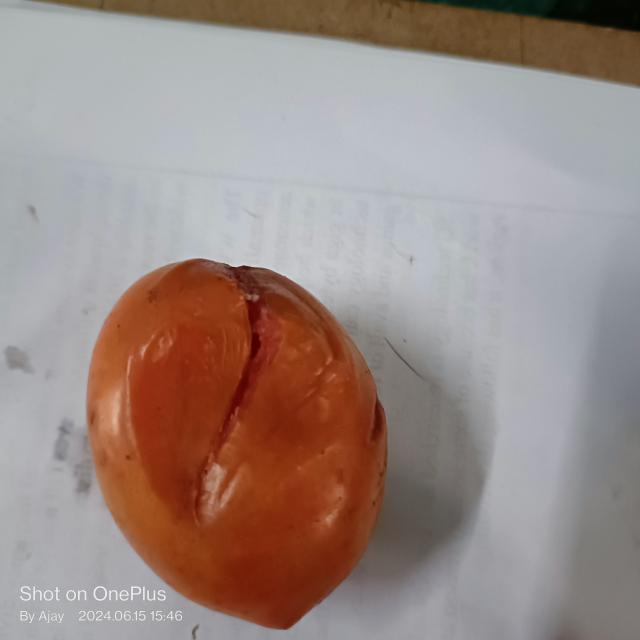Botrytis: (198, 263, 268, 486)
